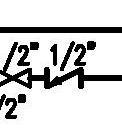valve: (1, 41, 32, 89)
